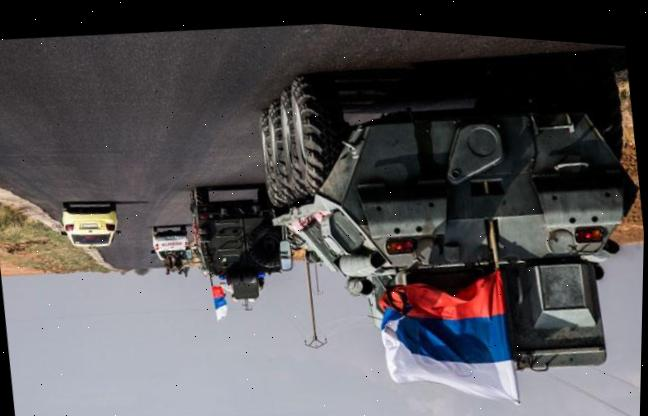armored_car: (182, 165, 292, 300)
car: (56, 192, 121, 255)
person: (171, 244, 183, 275), (160, 248, 170, 279)
tank: (259, 44, 647, 380)
